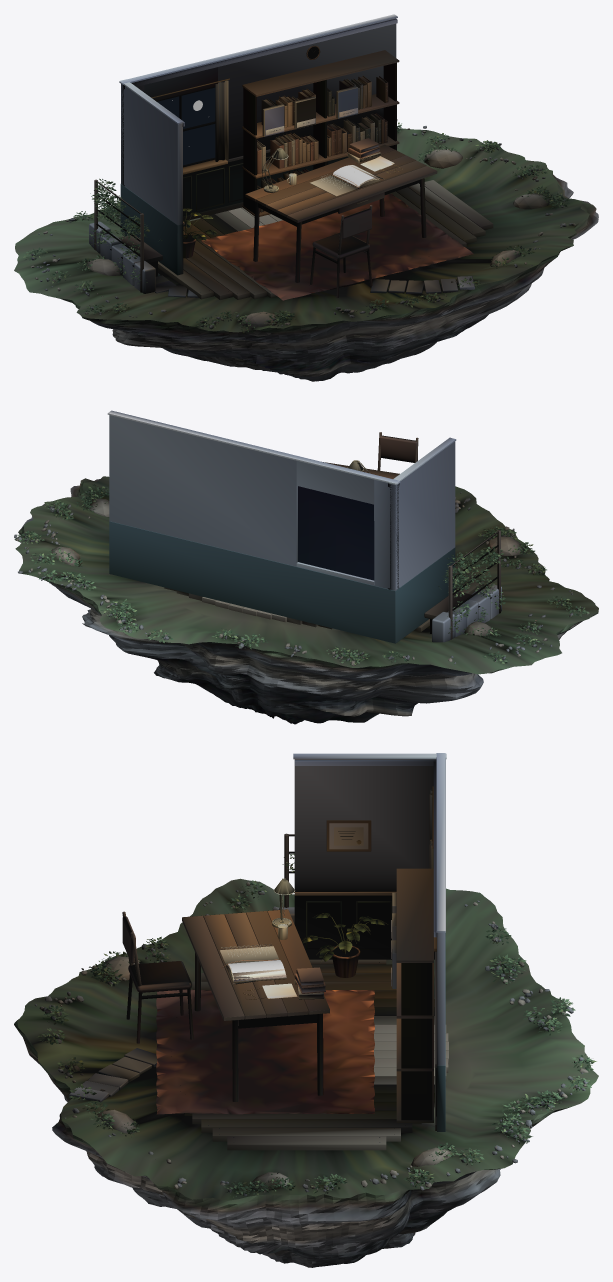
Rendered from flight-writing-5c898bfb.glb.
The picture shows the model from 3 angles, top to bottom: view 1: azimuth 30°, elevation 25°; view 2: azimuth 150°, elevation 25°; view 3: azimuth 270°, elevation 25°; orthographic projection. The views are drawn at different scales.
Visible parts, largest first — view 1: Writing island · flight.001; view 2: Writing island · flight.001; view 3: Writing island · flight.001.
Part boxes in pixels (left/top/right/bottom): Writing island · flight.001: left=14, top=14, right=598, bottom=381; Writing island · flight.001: left=14, top=410, right=598, bottom=724; Writing island · flight.001: left=14, top=753, right=598, bottom=1267.
Bounding box in the file's own units: 11.7 × 6.4 × 8.63.
